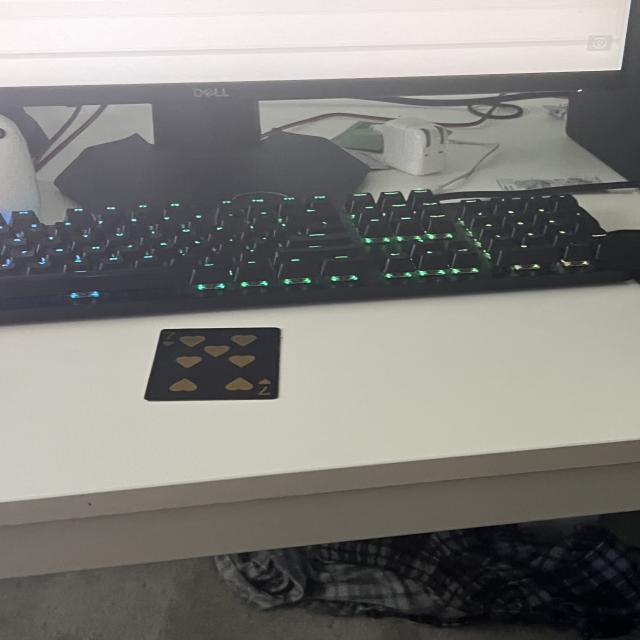7H: (256, 375, 275, 398), (160, 329, 180, 347)
